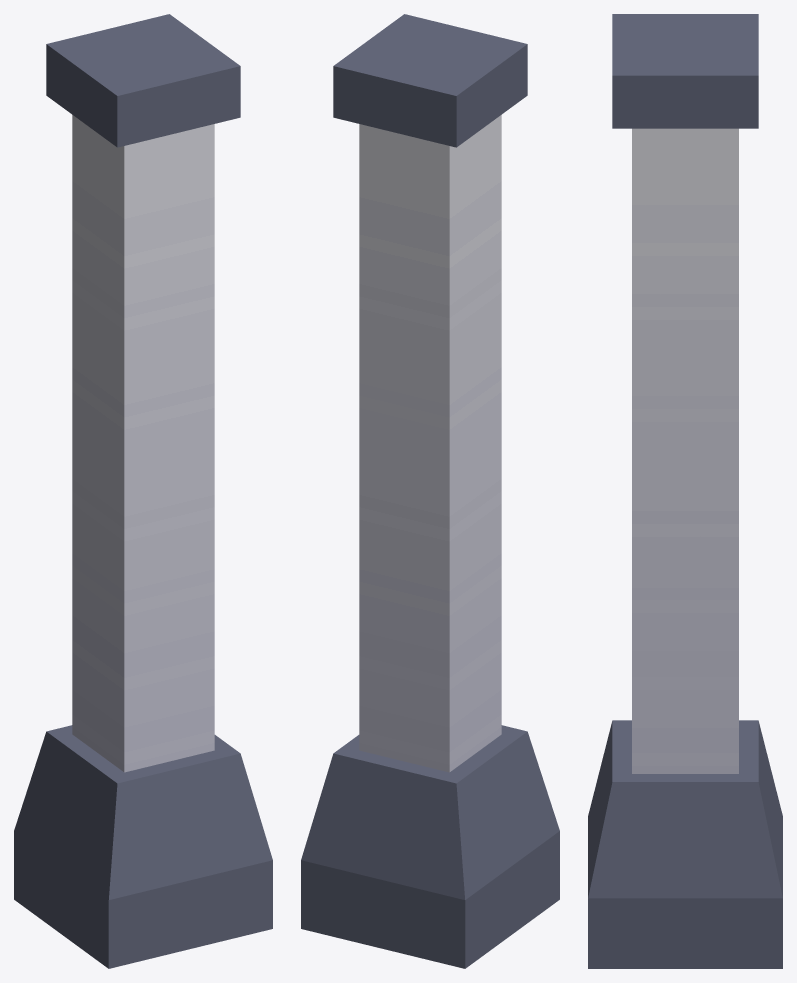
Rendered from bridge-pillar.glb.
3 views of the same model, side by side, from view 1: azimuth 30°, elevation 25°; view 2: azimuth 150°, elevation 25°; view 3: azimuth 270°, elevation 25° (orthographic). The views are drawn at different scales.
Visible parts, largest first — view 1: bridge-pillar; view 2: bridge-pillar; view 3: bridge-pillar.
Part boxes in pixels (<box>): bridge-pillar: <box>14,14,272,968</box>; bridge-pillar: <box>301,14,559,968</box>; bridge-pillar: <box>588,14,782,968</box>.
Bounding box in the file's own units: 0.1 × 0.5 × 0.1.
Materials: 1 (1 with a texture image).
